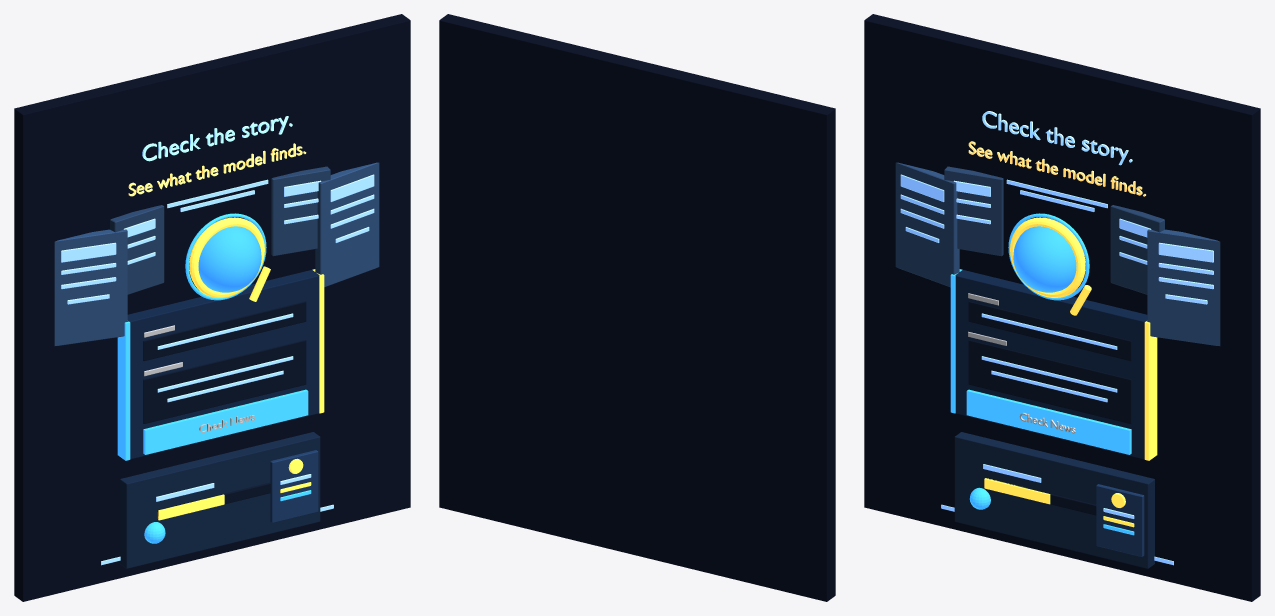
The picture shows the model from 3 angles, left to right: view 1: azimuth 30°, elevation 25°; view 2: azimuth 150°, elevation 25°; view 3: azimuth 330°, elevation 25°; orthographic projection.
Visible parts, largest first — view 1: PageSlab, InputCard, ResultPanel, NewsCluster_Left, NewsCluster_Right, CheckButton, VerifySphere, DatasetBadge, MagnifierRing, TitleBottom, TitleTop; view 2: PageSlab; view 3: PageSlab, InputCard, ResultPanel, NewsCluster_Right, NewsCluster_Left, CheckButton, VerifySphere, DatasetBadge, MagnifierRing, TitleBottom, TitleTop.
Boxes of the visible parts, bbox=[...] form: PageSlab: bbox=[14, 14, 410, 601]; InputCard: bbox=[117, 269, 324, 460]; ResultPanel: bbox=[120, 432, 320, 568]; NewsCluster_Left: bbox=[54, 205, 164, 345]; NewsCluster_Right: bbox=[271, 162, 379, 287]; CheckButton: bbox=[143, 389, 308, 454]; VerifySphere: bbox=[198, 224, 261, 292]; DatasetBadge: bbox=[270, 450, 318, 522]; MagnifierRing: bbox=[185, 213, 270, 301]; TitleBottom: bbox=[128, 143, 306, 211]; TitleTop: bbox=[142, 116, 292, 161]; PageSlab: bbox=[439, 14, 835, 601]; PageSlab: bbox=[864, 14, 1260, 601]; InputCard: bbox=[950, 269, 1157, 460]; ResultPanel: bbox=[954, 432, 1154, 568]; NewsCluster_Right: bbox=[1110, 205, 1220, 345]; NewsCluster_Left: bbox=[895, 162, 1003, 287]; CheckButton: bbox=[966, 389, 1131, 454]; VerifySphere: bbox=[1013, 224, 1076, 292]; DatasetBadge: bbox=[1096, 484, 1144, 556]; MagnifierRing: bbox=[1008, 213, 1091, 315]; TitleBottom: bbox=[968, 141, 1145, 211]; TitleTop: bbox=[982, 111, 1132, 165].
Bounding box in the file's own units: 2 × 2.4 × 0.32.
